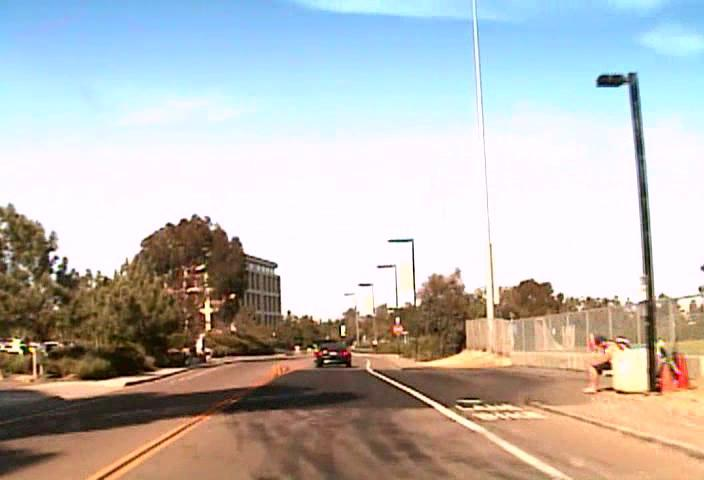stop: (392, 324, 403, 334)
